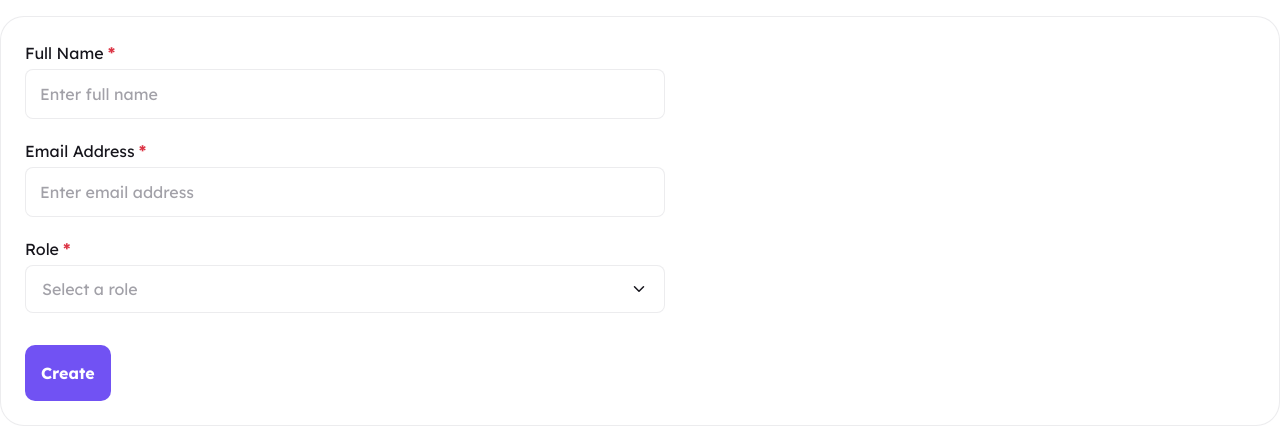
Test case: CreateUserDashboard › form › never offers IT, even when the API returns it
What coordinates should you click on to do the following:
click the button "Select a role"
I would click on:
 (90, 289)
Its box is [25,265,665,313].
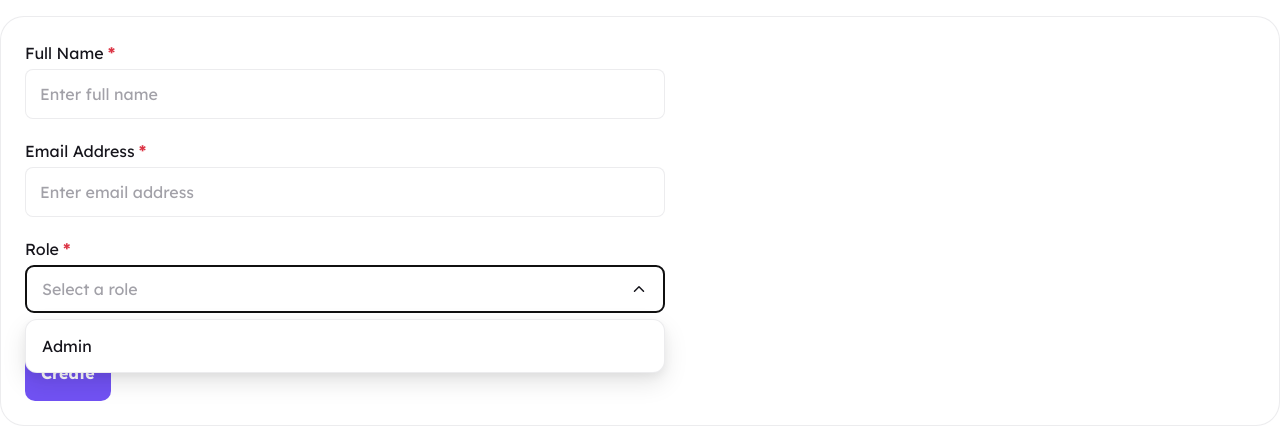
Expected: the button "Admin" is shown, [26,320,664,372]
